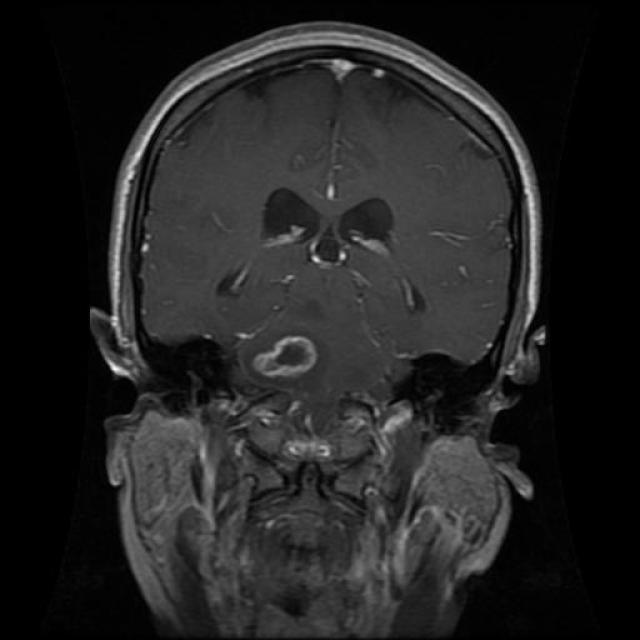glioma: (212, 176, 436, 318), (252, 327, 328, 382)
